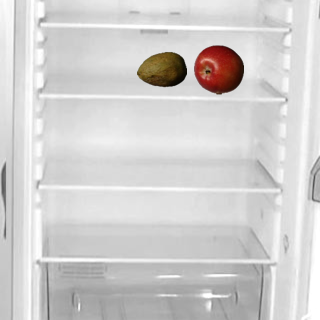Apple Braeburn: (193, 44, 243, 94)
Papaya: (136, 44, 186, 94)
